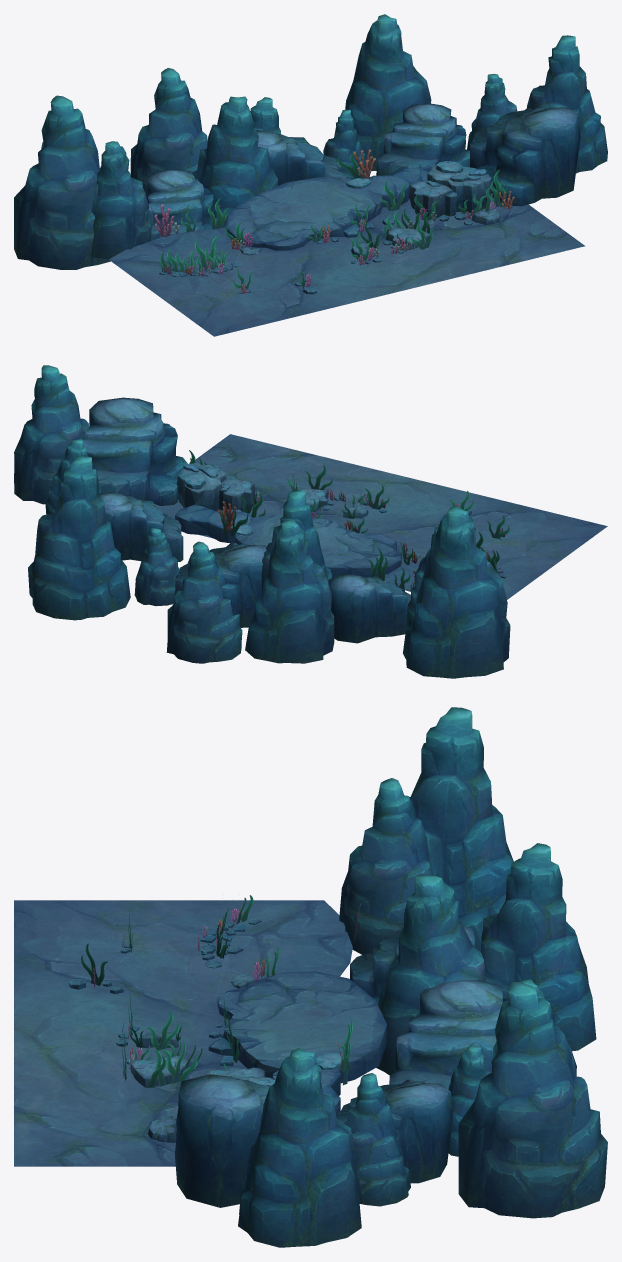
The model's file is Boss_Seabed.FBX.
3 views of the same model, one above another, from view 1: azimuth 30°, elevation 25°; view 2: azimuth 150°, elevation 25°; view 3: azimuth 270°, elevation 25° (orthographic). The views are drawn at different scales.
Parts seen in each view (by area): view 1: Boss_Stone, Boss_Stone_04_2, Boss_Plant; view 2: Boss_Stone, Boss_Stone_04_2, Boss_Plant; view 3: Boss_Stone, Boss_Stone_04_2, Boss_Plant.
Part boxes in pixels (box(x1,y1,x2,y2)): Boss_Stone: box(14, 14, 607, 294); Boss_Stone_04_2: box(109, 193, 585, 336); Boss_Plant: box(154, 149, 514, 293); Boss_Stone: box(14, 365, 510, 678); Boss_Stone_04_2: box(154, 434, 607, 599); Boss_Plant: box(182, 450, 509, 591); Boss_Stone: box(69, 707, 607, 1247); Boss_Stone_04_2: box(14, 900, 352, 1166); Boss_Plant: box(81, 895, 360, 1087).
Bounding box in the file's own units: 3634 × 1138 × 2394.
